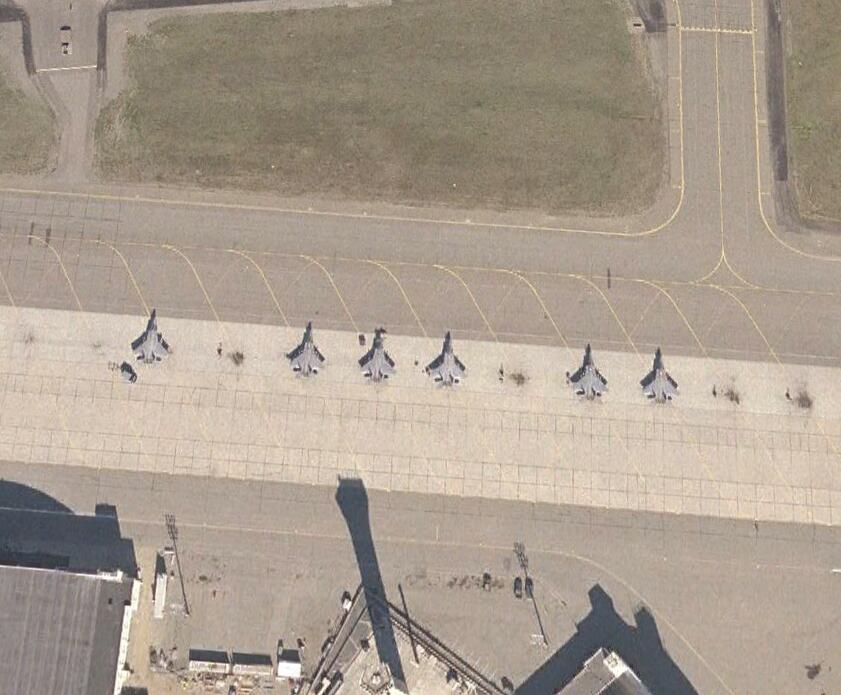A13: (424, 330, 470, 388), (570, 342, 613, 402), (130, 307, 172, 364), (641, 347, 681, 406), (288, 320, 327, 380), (358, 329, 399, 383)
